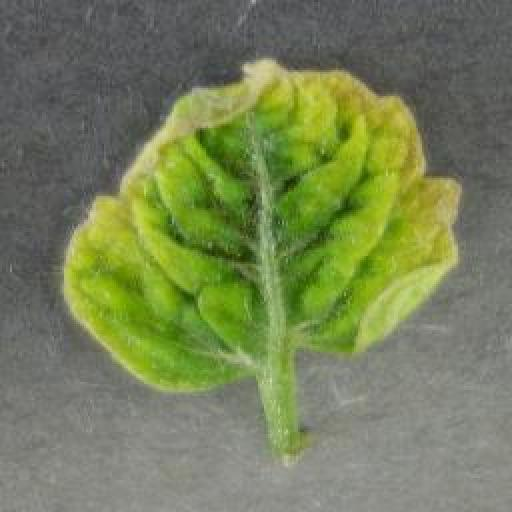disease_tomato: (63, 56, 463, 396)
